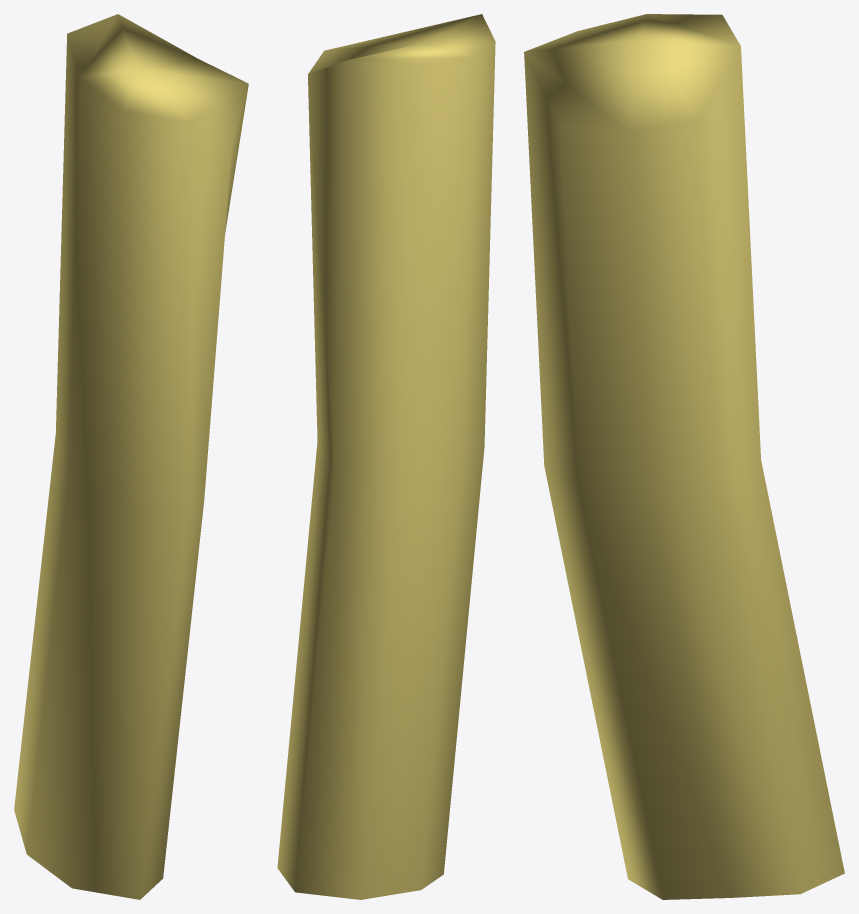
The model's file is accessory-nucleus-of-oculomotor-nerve-l.glb.
The picture shows the model from 3 angles, left to right: view 1: azimuth 30°, elevation 25°; view 2: azimuth 150°, elevation 25°; view 3: azimuth 270°, elevation 25°; orthographic projection. The views are drawn at different scales.
Parts seen in each view (by area): view 1: Accessory nucleus of oculomotor nerve.l; view 2: Accessory nucleus of oculomotor nerve.l; view 3: Accessory nucleus of oculomotor nerve.l.
Boxes of the visible parts, x1,y1,x2,y2 form: Accessory nucleus of oculomotor nerve.l: (14,14,248,899); Accessory nucleus of oculomotor nerve.l: (277,14,495,899); Accessory nucleus of oculomotor nerve.l: (524,14,844,899).
Bounding box in the file's own units: 0.0017 × 0.00848 × 0.00289.
